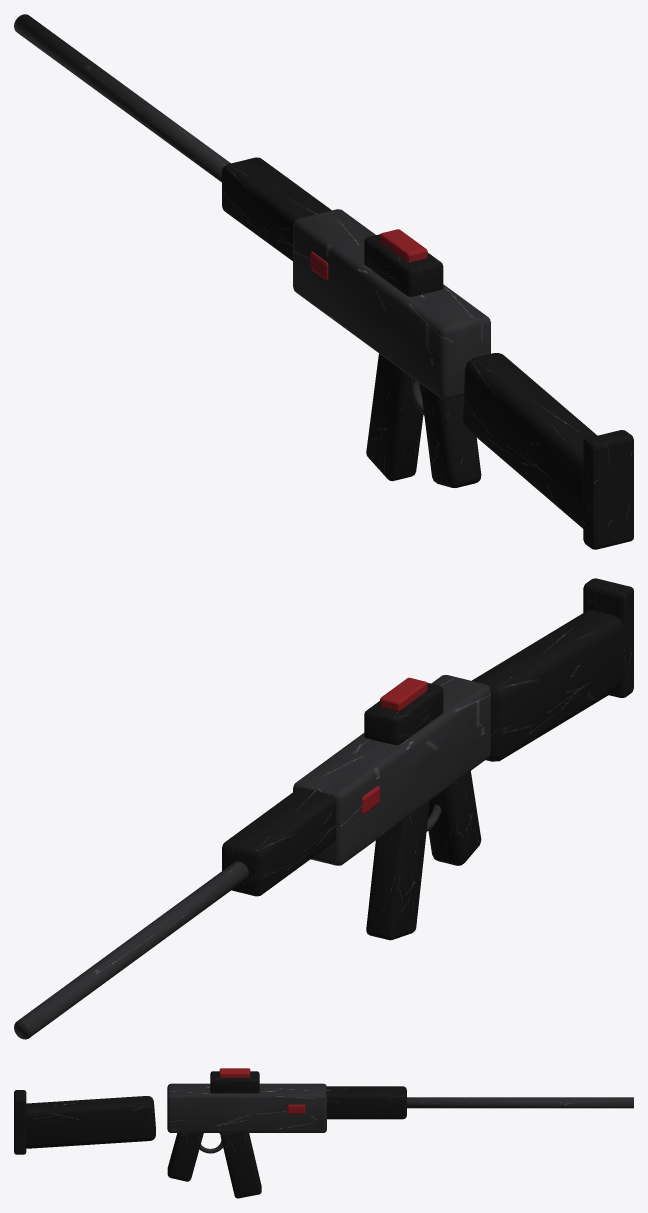
The model's file is weapon-rifle.glb.
The picture shows the model from 3 angles, top to bottom: view 1: azimuth 30°, elevation 25°; view 2: azimuth 150°, elevation 25°; view 3: azimuth 270°, elevation 25°; orthographic projection. The views are drawn at different scales.
Visible parts, largest first — view 1: Cube, Cube.002, Cube.001, Cube.003, Cylinder, Cube.005, Cube.004, Cube.006, Cube.007; view 2: Cube, Cube.002, Cube.001, Cylinder, Cube.005, Cube.004, Cube.006, Cube.003, Cube.007; view 3: Cube, Cube.002, Cylinder, Cube.001, Cube.005, Cube.004, Cube.006, Cube.003, Cube.007.
Boxes of the visible parts, x1,y1,x2,y2 form: Cube: (293, 209, 490, 399); Cube.002: (463, 353, 596, 528); Cube.001: (222, 157, 331, 260); Cube.003: (583, 430, 633, 549); Cylinder: (14, 14, 230, 182); Cube.005: (366, 353, 423, 481); Cube.004: (420, 384, 481, 487); Cube.006: (364, 234, 443, 296); Cube.007: (380, 229, 427, 262); Cube: (293, 675, 490, 865); Cube.002: (472, 610, 623, 761); Cube.001: (222, 787, 336, 896); Cylinder: (14, 861, 248, 1039); Cube.005: (366, 801, 429, 940); Cube.004: (428, 771, 481, 865); Cube.006: (364, 682, 443, 745); Cube.003: (583, 578, 633, 697); Cube.007: (380, 677, 427, 710); Cube: (167, 1083, 326, 1132); Cube.002: (25, 1096, 155, 1148); Cylinder: (407, 1097, 633, 1108); Cube.001: (326, 1086, 406, 1119); Cube.005: (220, 1133, 261, 1198); Cube.004: (167, 1133, 203, 1181); Cube.006: (210, 1071, 259, 1093); Cube.003: (14, 1090, 26, 1154); Cube.007: (219, 1068, 250, 1077).
Size of the model in its own units: 0.054 by 0.2253 by 1.01.
Materials: 3 (2 with a texture image).
